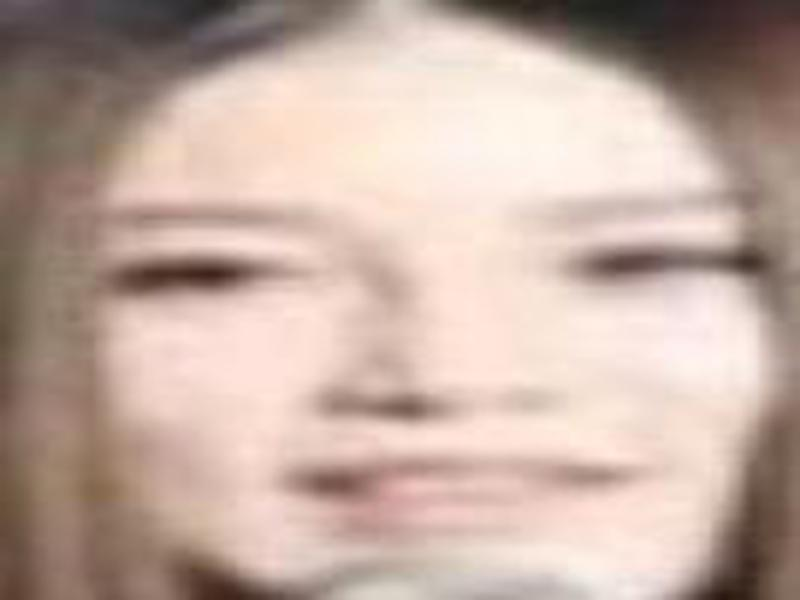without_mask: (72, 68, 768, 591)
